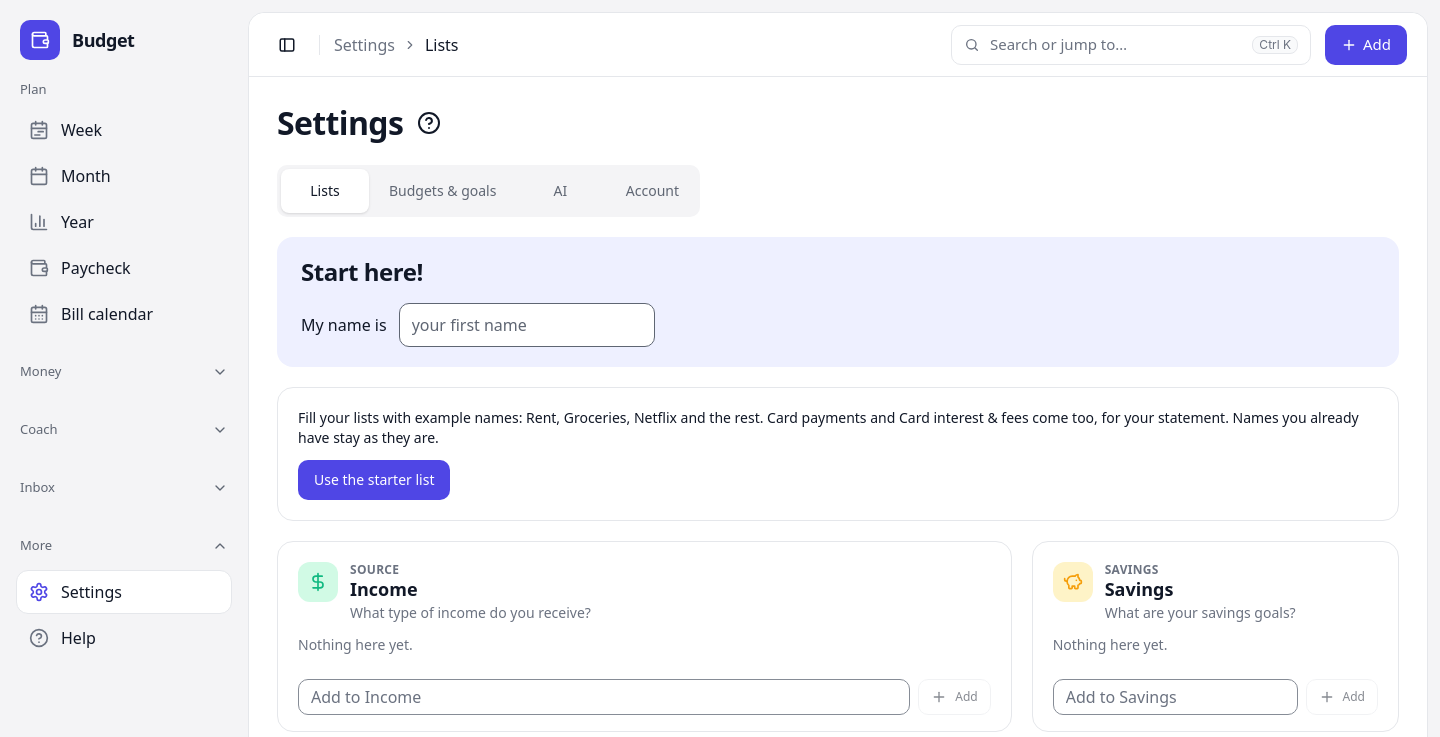
Test: the ? beside every screen’s title › on /setup opens its article in a sheet, with Show me for the whole of it
Expected: the heading "Settings" is shown, [277,103,403,143]
Click the button named "Help with this screen": (429, 123) [407,101,451,145]
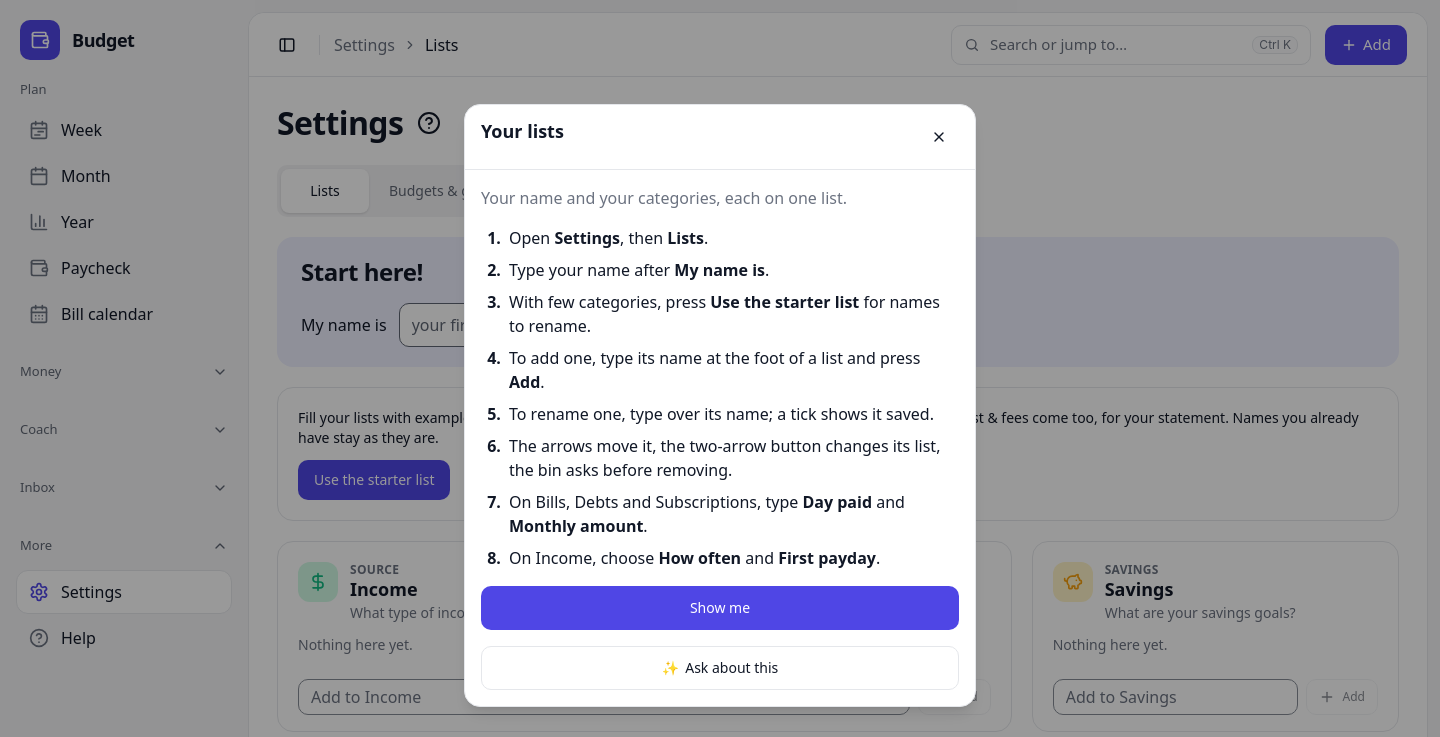
Expected: the heading "Your lists" is shown, [481,118,564,142]
Click the button named "Close": (939, 136) [919,116,959,156]
(page scrolled)
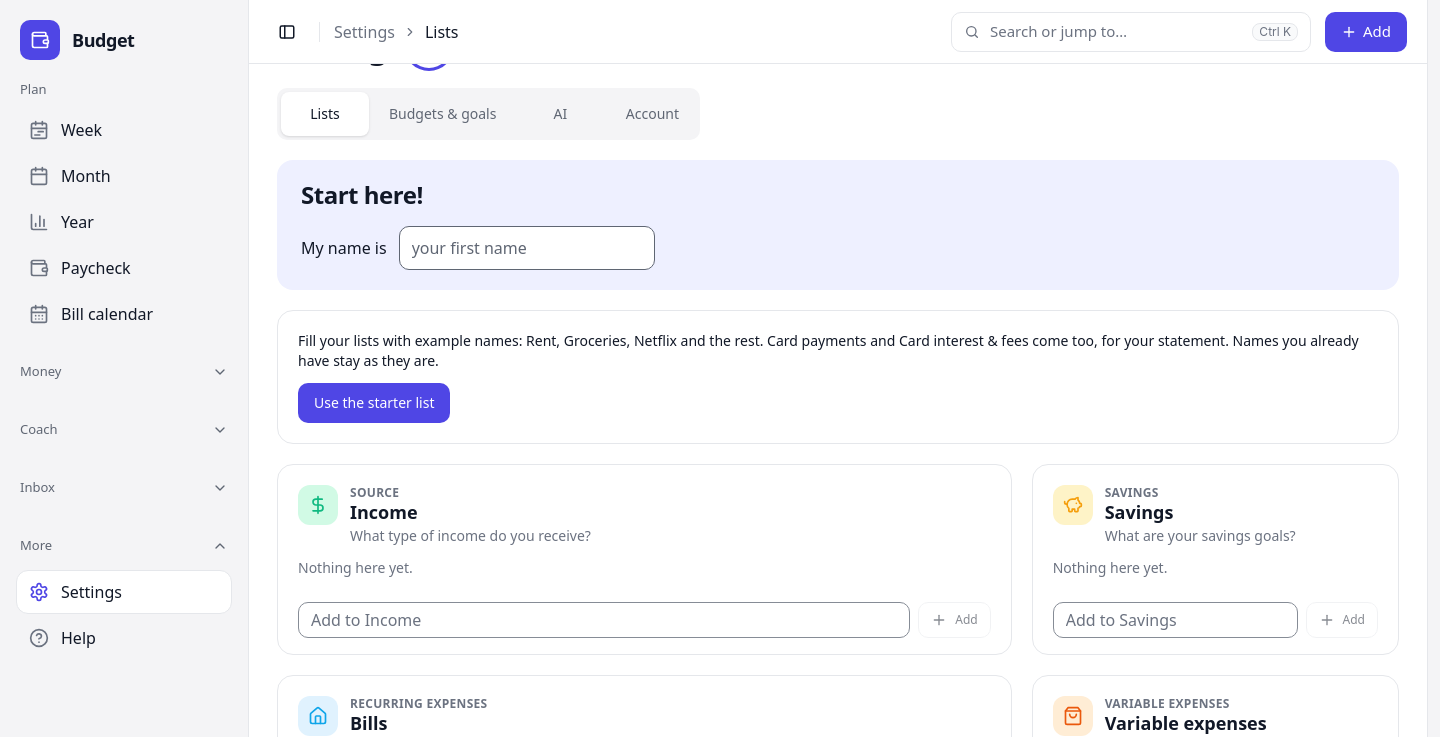
Expected: the dialog is gone
